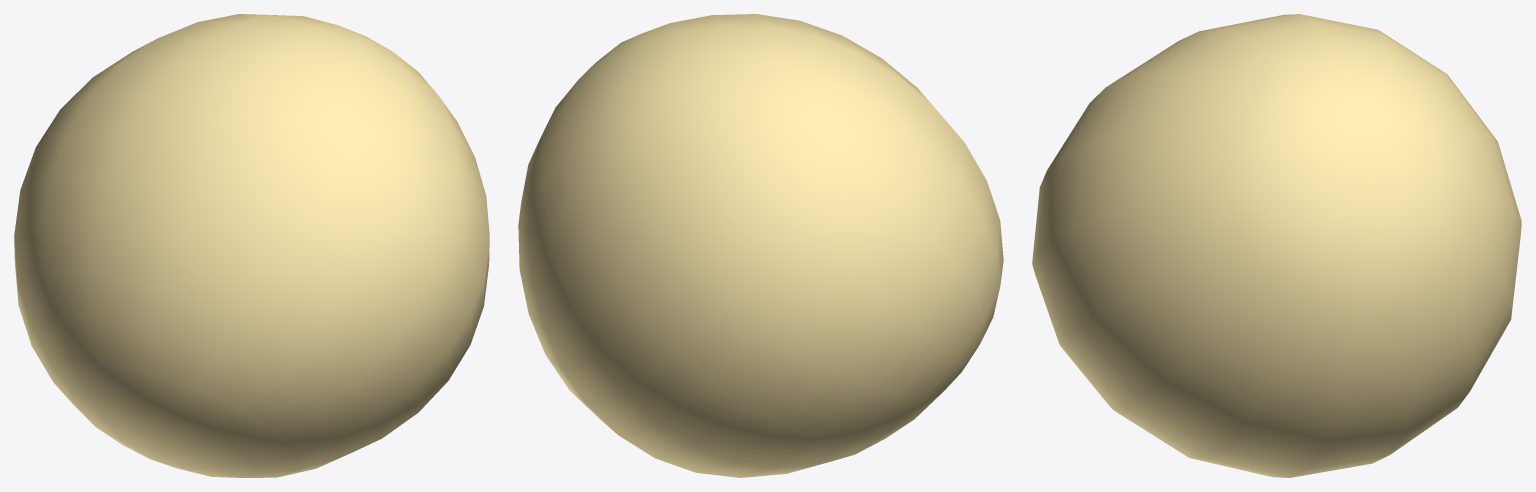
Rendered from golgi_vesicle_hd.fbx.
3 renders of one model, left to right at view 1: azimuth 30°, elevation 25°; view 2: azimuth 150°, elevation 25°; view 3: azimuth 270°, elevation 25°, orthographic.
Visible parts, largest first — view 1: Golgi_Vesicle_01; view 2: Golgi_Vesicle_01; view 3: Golgi_Vesicle_01.
Part boxes in pixels (left/top/right/bottom): Golgi_Vesicle_01: left=14, top=14, right=489, bottom=477; Golgi_Vesicle_01: left=518, top=14, right=1003, bottom=477; Golgi_Vesicle_01: left=1032, top=14, right=1521, bottom=477.
Size of the model in its own units: 66.06 by 62.4 by 66.39.
